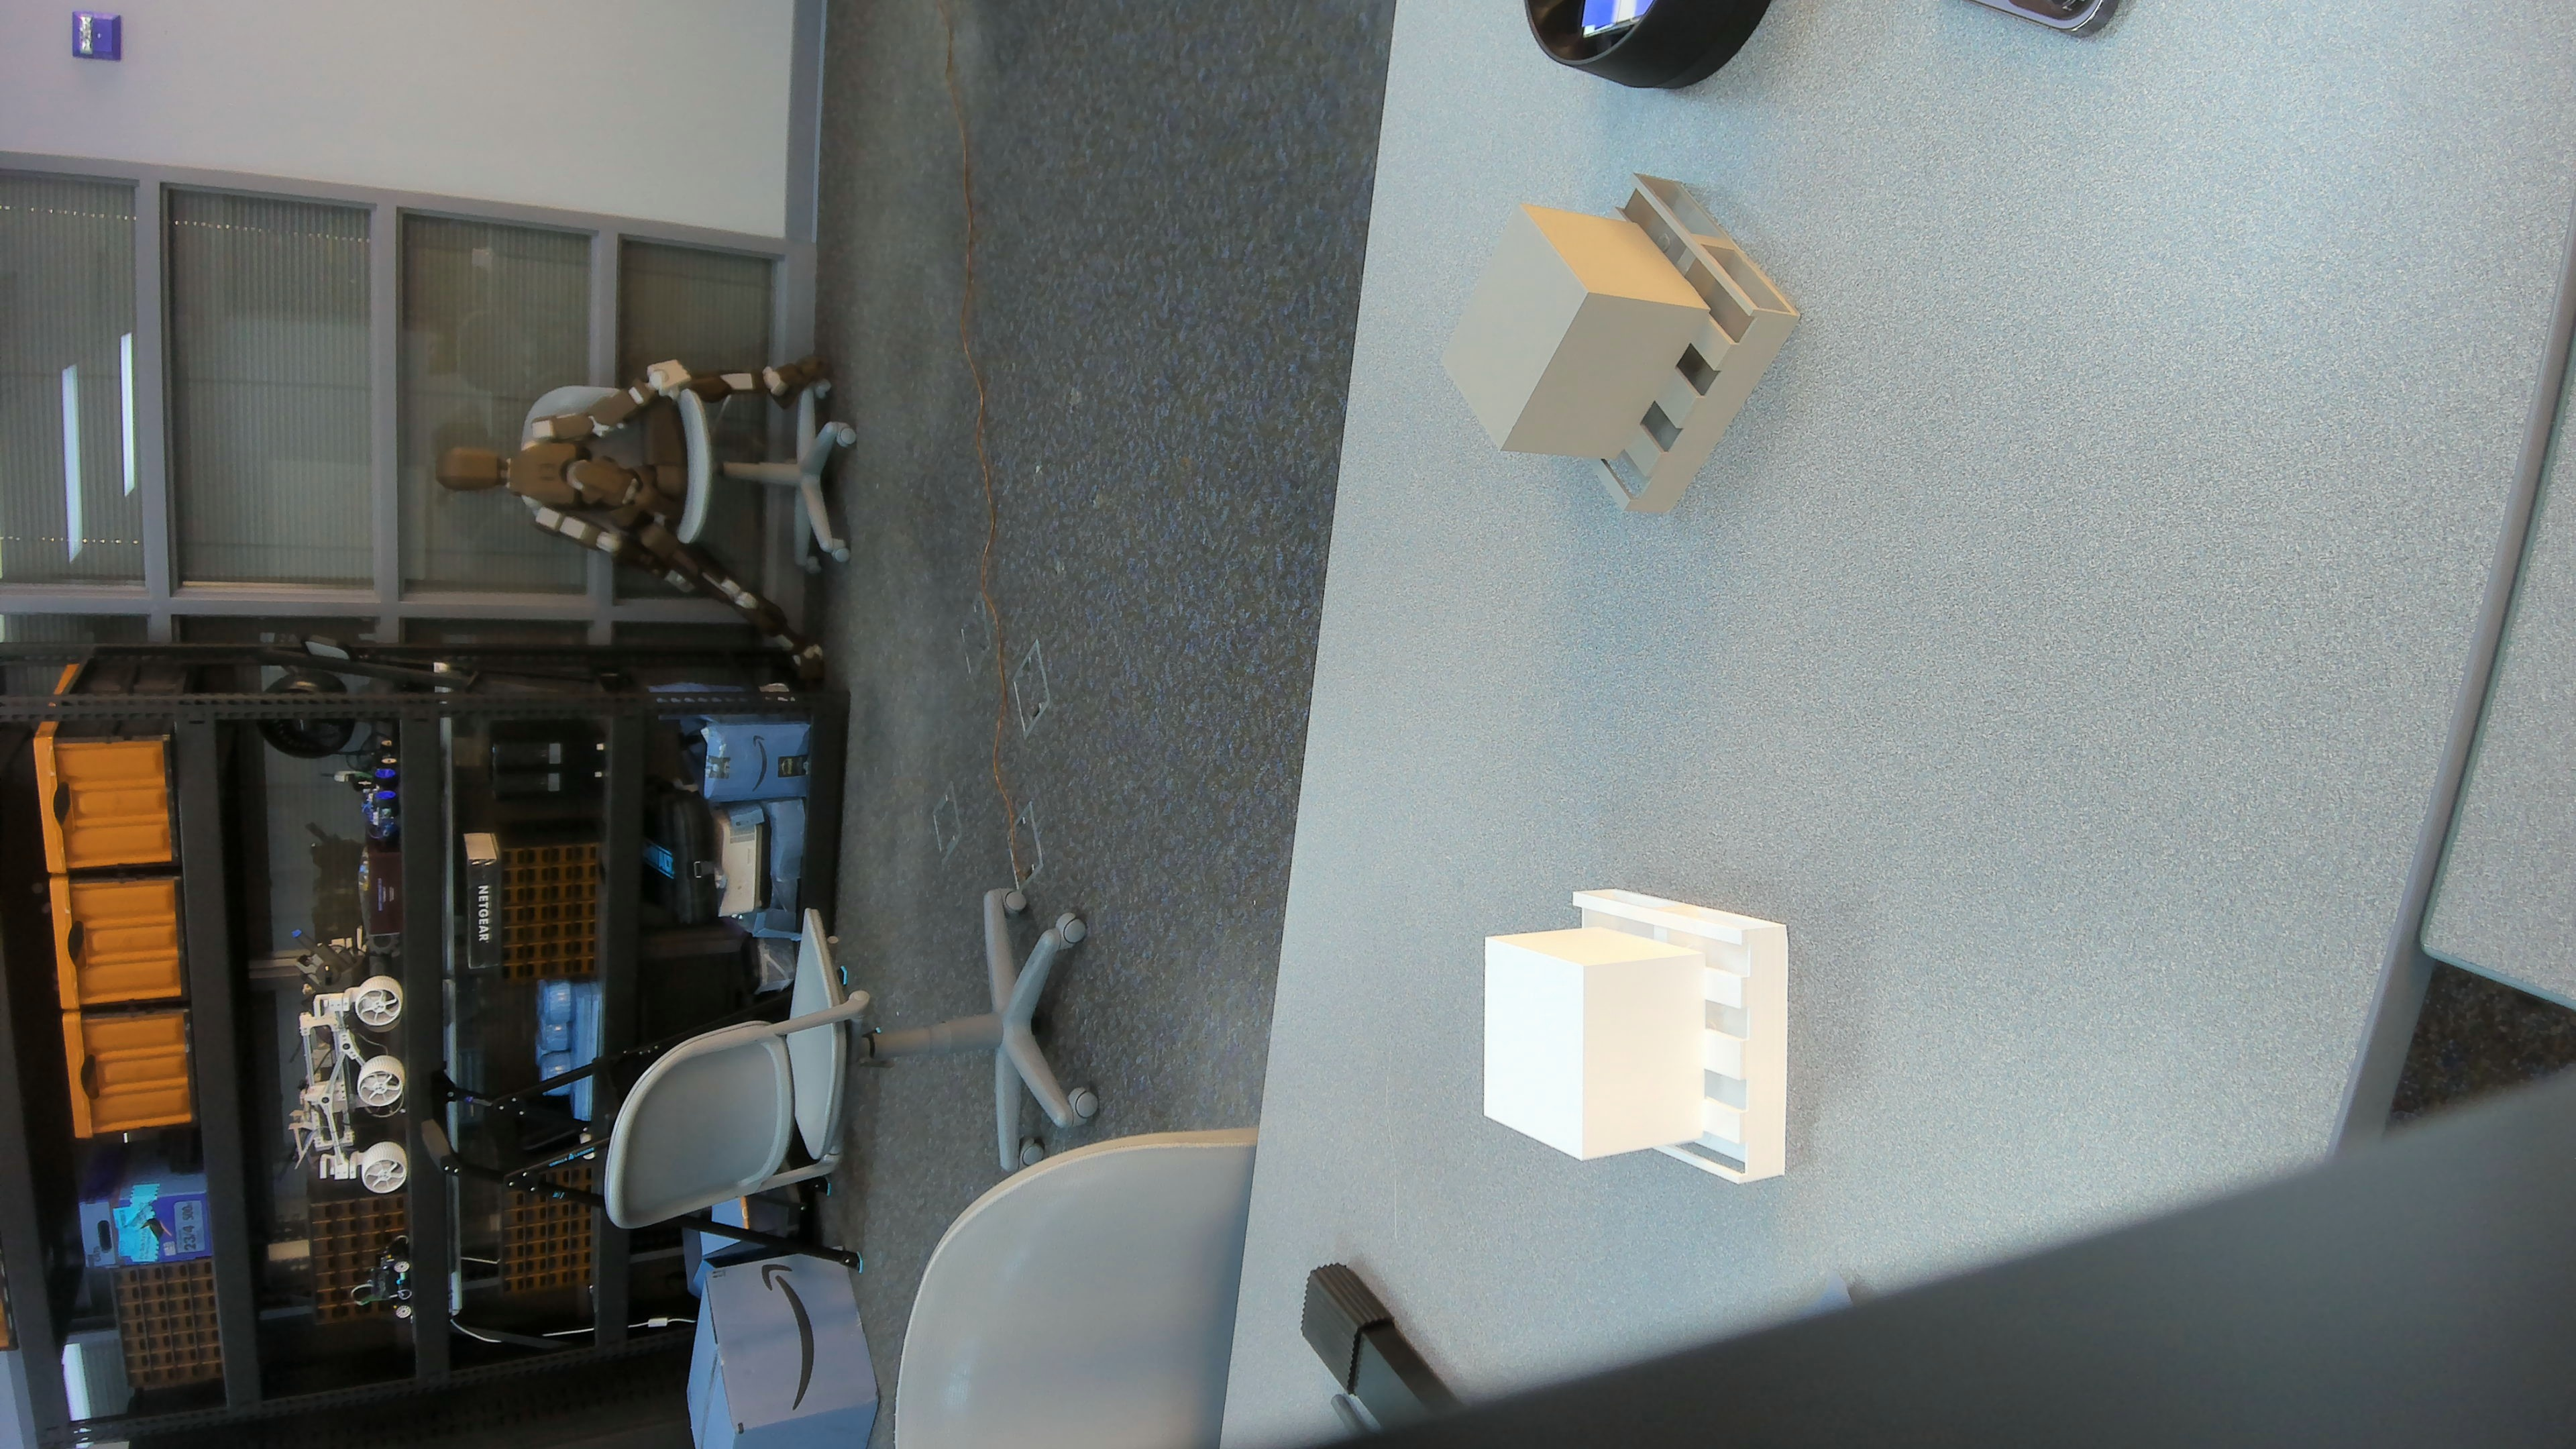grey pallet: (1435, 161, 1810, 540)
white pallet: (1470, 883, 1799, 1207)
